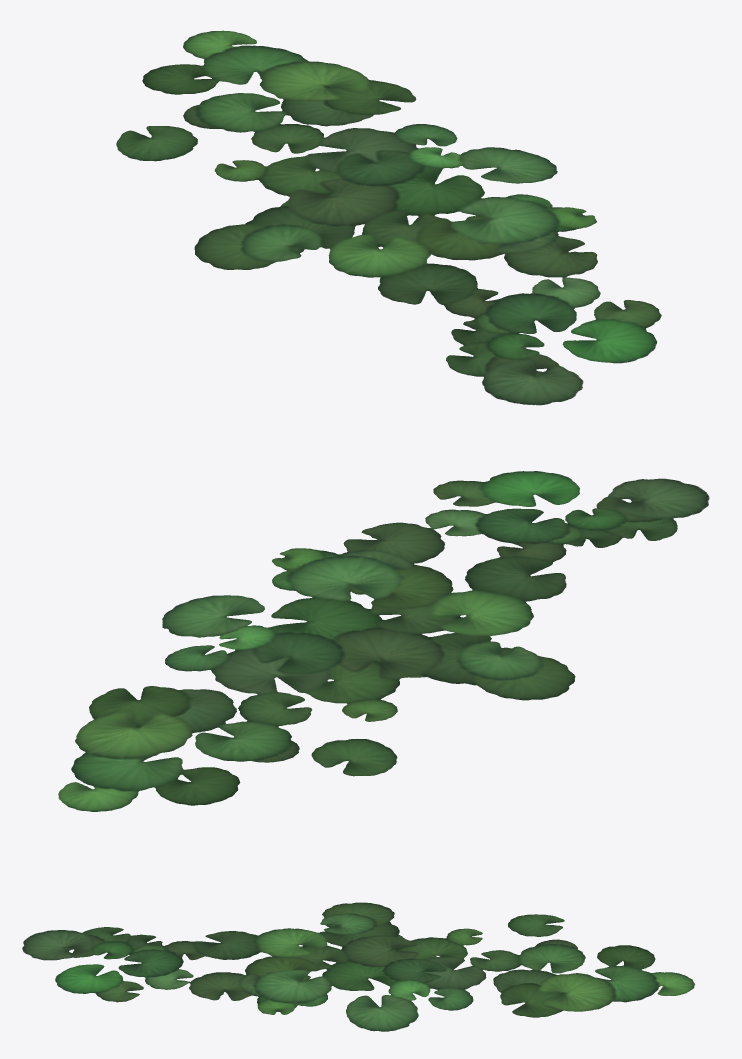
The model's file is SM_Water_Lilys_B.fbx.
The picture shows the model from 3 angles, top to bottom: view 1: azimuth 30°, elevation 25°; view 2: azimuth 150°, elevation 25°; view 3: azimuth 270°, elevation 25°; orthographic projection. The views are drawn at different scales.
Visible parts, largest first — view 1: SM_Water_Lilys_B; view 2: SM_Water_Lilys_B; view 3: SM_Water_Lilys_B.
Boxes of the visible parts, left/top/right/bottom form: SM_Water_Lilys_B: left=116, top=30, right=661, bottom=405; SM_Water_Lilys_B: left=58, top=471, right=709, bottom=811; SM_Water_Lilys_B: left=22, top=902, right=695, bottom=1031.
Bounding box in the file's own units: 41.86 × 89.11 × 1.91.
Materials: 1 (1 with a texture image).
